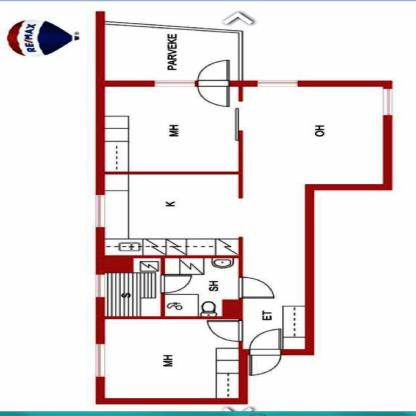door: (102, 84, 382, 350), (104, 86, 237, 172), (104, 320, 237, 399), (102, 22, 241, 80), (165, 257, 237, 316), (107, 257, 162, 316)
window: (197, 58, 233, 108), (250, 328, 285, 378), (237, 276, 274, 300), (208, 320, 245, 344), (155, 275, 193, 294)
zone: (256, 79, 296, 88), (383, 85, 394, 115), (95, 346, 105, 378), (152, 79, 191, 87), (95, 194, 104, 227), (95, 275, 104, 295)
